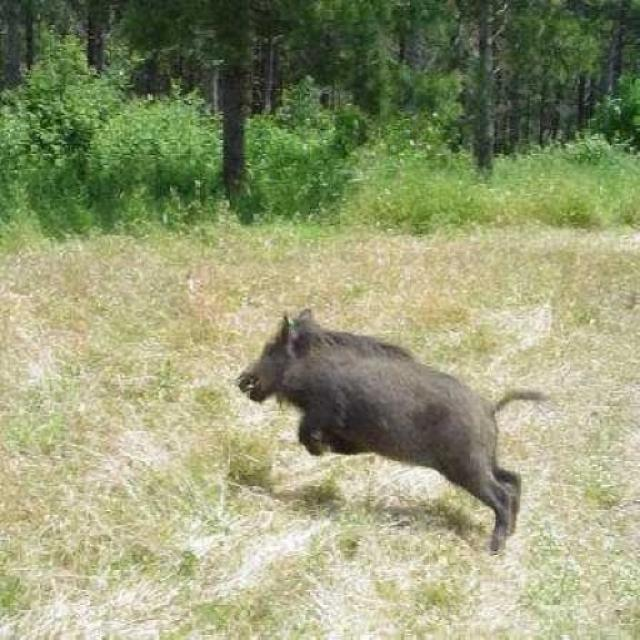pig: (226, 288, 554, 576)
